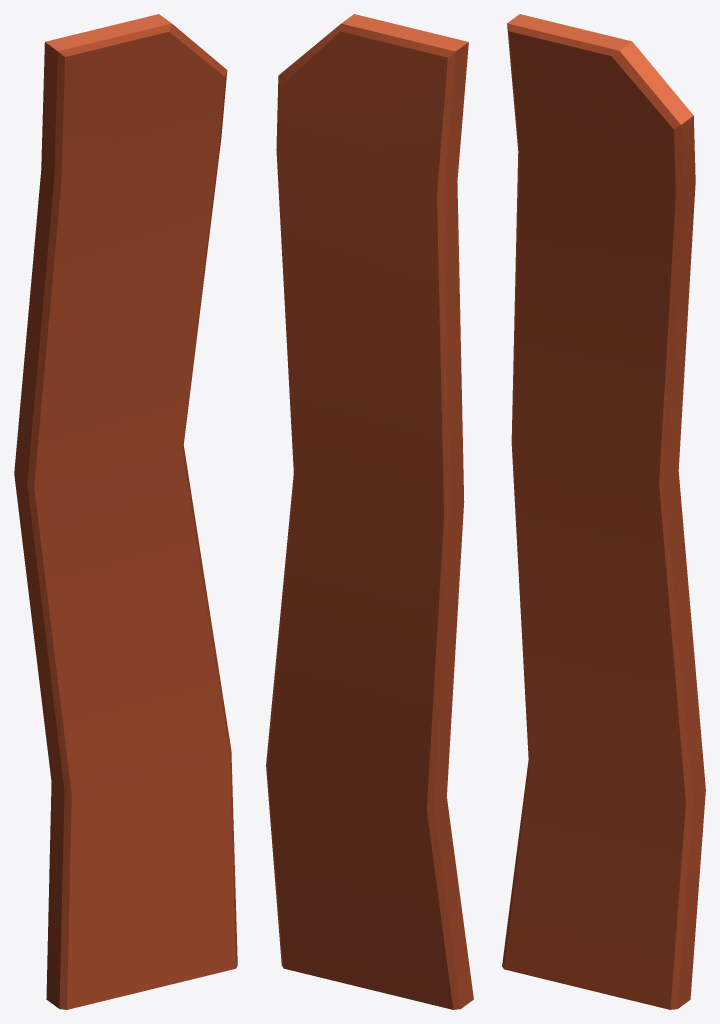
File: SM_Plank_002.fbx
3 views of the same model, side by side, from view 1: azimuth 30°, elevation 25°; view 2: azimuth 150°, elevation 25°; view 3: azimuth 330°, elevation 25° (orthographic).
Parts seen in each view (by area): view 1: Plank_002; view 2: Plank_002; view 3: Plank_002.
Boxes of the visible parts, x1,y1,x2,y2 form: Plank_002: (14,14,237,1009); Plank_002: (266,14,473,1009); Plank_002: (502,14,705,1009).
Bounding box in the file's own units: 33.87 × 159 × 11.95.
1 material, 1 textured.
